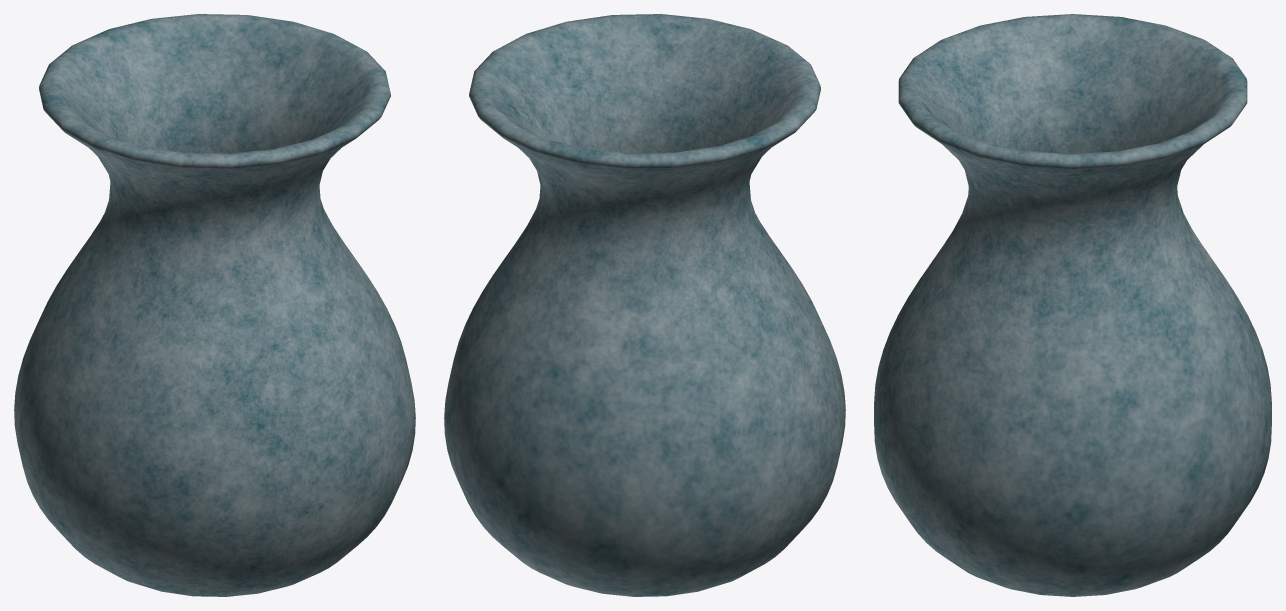
The model's file is Vase-1-blue.glb.
3 renders of one model, left to right at view 1: azimuth 30°, elevation 25°; view 2: azimuth 150°, elevation 25°; view 3: azimuth 270°, elevation 25°, orthographic.
Visible parts, largest first — view 1: Vase_1.001; view 2: Vase_1.001; view 3: Vase_1.001.
Part boxes in pixels (x1,y1,x2,y2): Vase_1.001: [14, 14, 415, 596]; Vase_1.001: [444, 14, 845, 596]; Vase_1.001: [874, 14, 1271, 596].
Size of the model in its own units: 0.6878 by 0.8905 by 0.6808.
Materials: 1 (1 with a texture image).
